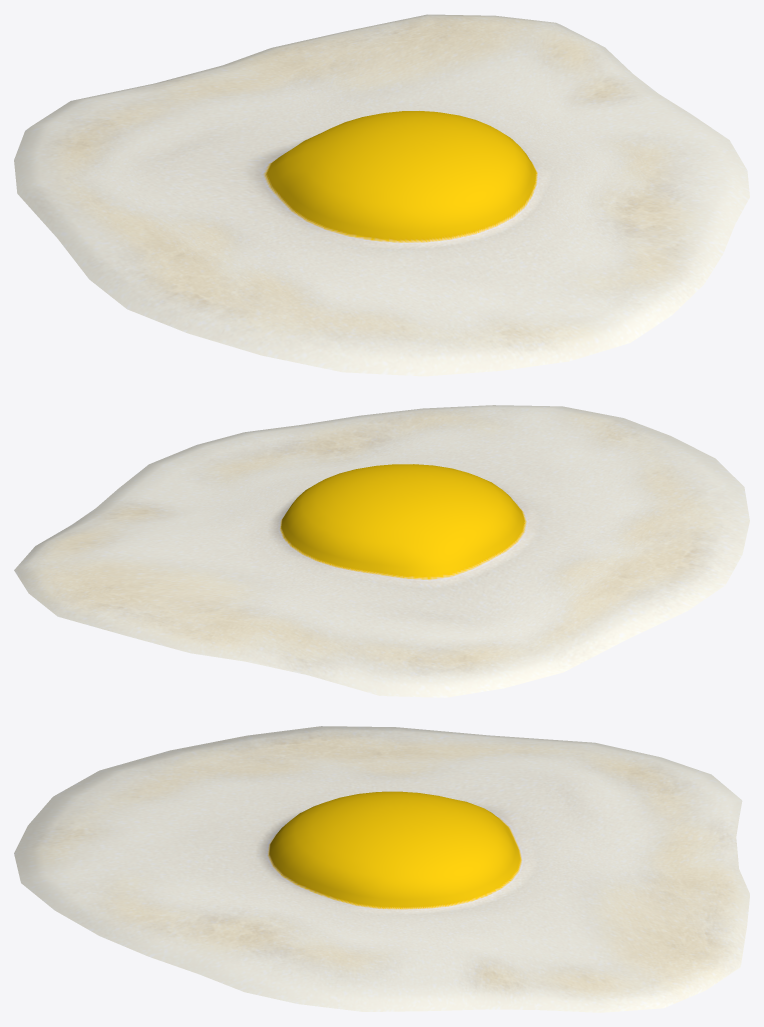
File: Egg_Cracked_16.obj
3 views of the same model, one above another, from view 1: azimuth 30°, elevation 25°; view 2: azimuth 150°, elevation 25°; view 3: azimuth 270°, elevation 25° (orthographic). The views are drawn at different scales.
Visible parts, largest first — view 1: fried_egg_15; view 2: fried_egg_15; view 3: fried_egg_15.
Part boxes in pixels (x1,y1,x2,y2): fried_egg_15: (14, 14, 749, 376); fried_egg_15: (14, 405, 749, 697); fried_egg_15: (14, 726, 749, 1012).
Bounding box in the file's own units: 0.1617 × 0.0155 × 0.1754.
